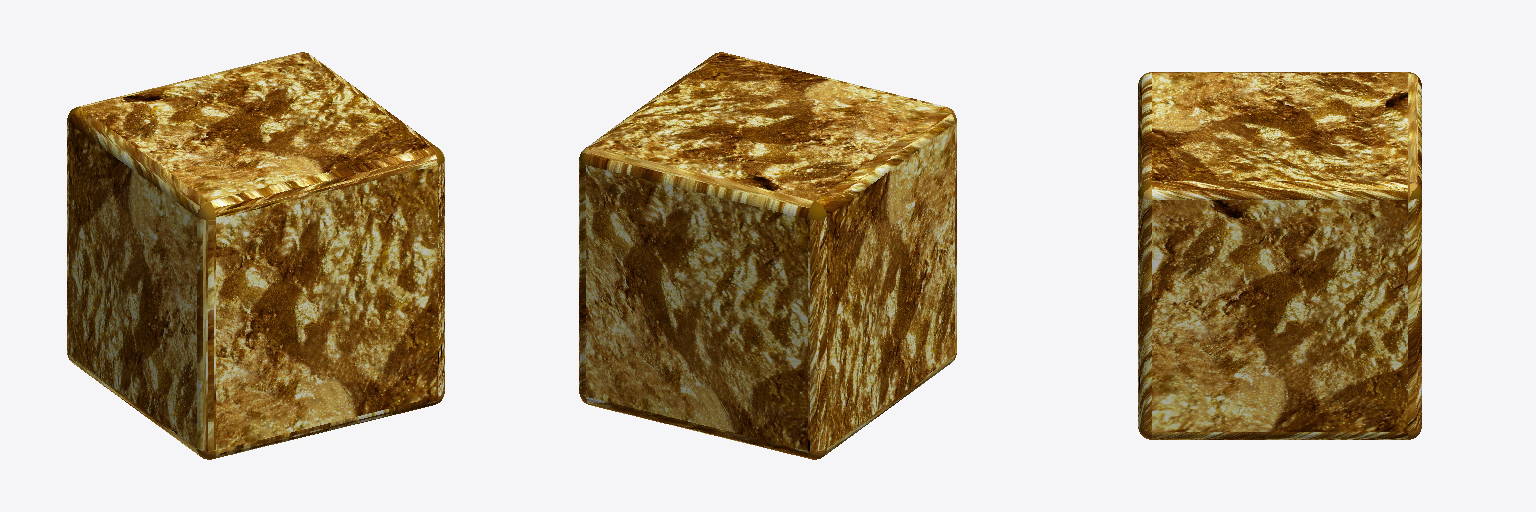
3 views of the same model, side by side, from view 1: azimuth 30°, elevation 25°; view 2: azimuth 150°, elevation 25°; view 3: azimuth 270°, elevation 25° (orthographic).
Visible parts, largest first — view 1: Cube; view 2: Cube; view 3: Cube.
Boxes of the visible parts, x1,y1,x2,y2 form: Cube: [67, 52, 444, 459]; Cube: [579, 52, 956, 459]; Cube: [1138, 72, 1421, 439].
Size of the model in its own units: 2 by 2 by 2.
Materials: 1 (1 with a texture image).